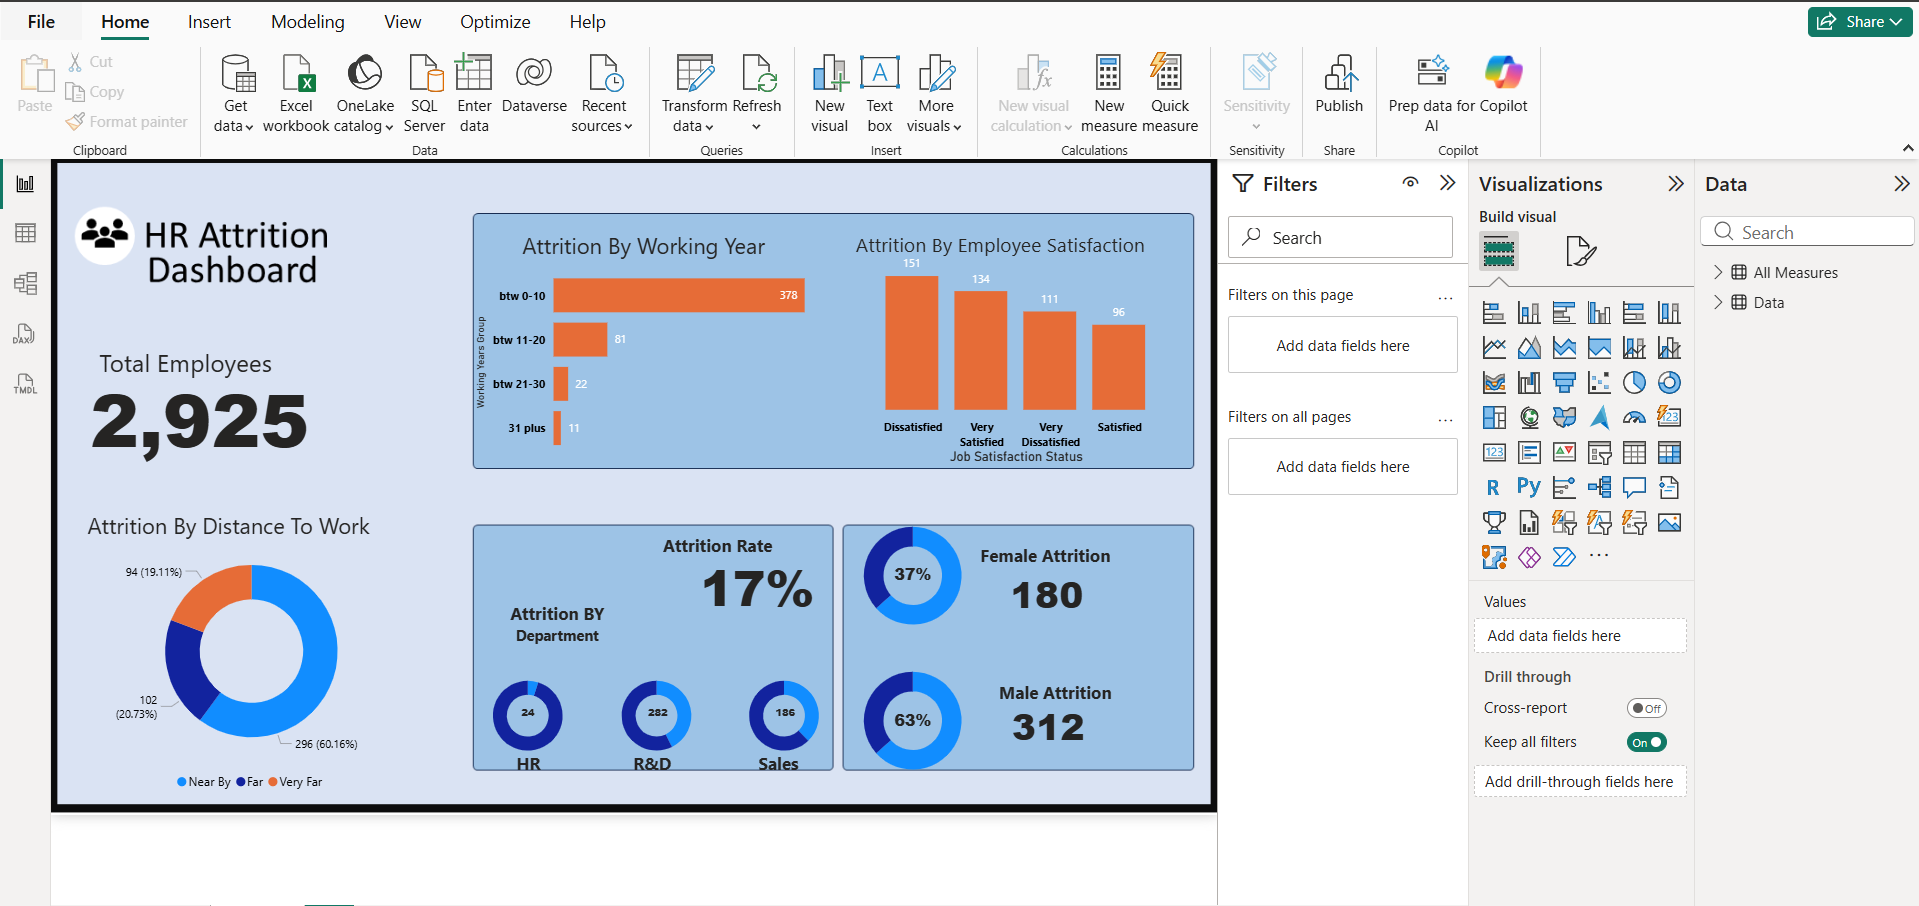

What the dashboard file says about the page in this screenshot:
{"tool":"powerbi","page":{"name":"Page 1","canvas":[1280,720],"ordinal":0},"visuals":[{"type":"card","fields":{"Values":["All Measures.Total Employees"]},"box":[0,219.6,326.6,120.8],"z":0},{"type":"donutChart","fields":{"Category":["Data.Distance Status"],"Y":["All Measures.Total Attrition"]},"box":[24.7,407.5,391.1,295],"z":1000},{"type":"barChart","fields":{"Y":["All Measures.Total Attrition"],"Category":["Data.Working Years Group"]},"box":[461.1,98.8,397.9,241.5],"z":2000},{"type":"columnChart","fields":{"Category":["Data.Job Satisfaction Status"],"Y":["All Measures.Total Attrition"]},"box":[870,87.8,369.1,252.5],"z":3000},{"type":"card","fields":{"Values":["All Measures.% Attrition"]},"box":[691.6,407.5,167.4,120.8],"z":4000},{"type":"donutChart","fields":{"Y":["All Measures.HR Department","All Measures.Remain Hr"]},"box":[461.1,558.5,125,105.7],"z":5000},{"type":"donutChart","fields":{"Y":["All Measures.Remain R&D","All Measures.R&D Department"]},"box":[601.7,558.5,125,105.7],"z":6000},{"type":"donutChart","fields":{"Y":["All Measures.Sales Department","All Measures.Remain Sales"]},"box":[742.4,558.5,125,105.7],"z":7000},{"type":"donutChart","fields":{"Category":["Data.Gender"],"Y":["All Measures.Total Attrition"]},"box":[827.4,385.6,237.4,144.1],"z":8000},{"type":"donutChart","fields":{"Category":["Data.Gender"],"Y":["All Measures.Total Attrition"]},"box":[827.4,544.8,237.4,144.1],"z":9000},{"type":"textbox","box":[48,200.3,230.5,48],"z":10000},{"type":"textbox","box":[20.6,381.5,348.5,49.4],"z":11000},{"type":"textbox","box":[492.6,74.1,315.6,48],"z":12000},{"type":"textbox","box":[845.3,74.1,393.8,48],"z":13000},{"type":"card","fields":{"Values":["All Measures.HR Department"]},"box":[498.1,590.1,50.8,41.2],"z":14000},{"type":"card","fields":{"Values":["All Measures.R&D Department"]},"box":[640.8,590.1,50.8,41.2],"z":15000},{"type":"card","fields":{"Values":["All Measures.Sales Department"]},"box":[780.8,594.2,50.8,31.6],"z":16000},{"type":"textbox","box":[666.9,406.2,138.6,50.8],"z":18000},{"type":"textbox","box":[477.5,646.3,93.3,35.7],"z":18001},{"type":"textbox","box":[613.4,646.3,93.3,35.7],"z":18002},{"type":"textbox","box":[752,646.3,93.3,35.7],"z":18003},{"type":"textbox","box":[461.1,481.6,189.4,63.1],"z":18004},{"type":"card","fields":{"Values":["All Measures.% Female Attrition"]},"box":[920.8,441.9,50.8,31.6],"z":18005},{"type":"card","fields":{"Values":["All Measures.% Male Attrition"]},"box":[920.8,602.4,50.8,31.6],"z":18006},{"type":"textbox","box":[1005.8,417.2,171.5,50.8],"z":18007},{"type":"textbox","box":[1011.3,568.1,182.5,57.6],"z":18008},{"type":"card","fields":{"Values":["All Measures.Total Attrition"]},"box":[1010,417.2,167.4,120.8],"z":18009},{"type":"card","fields":{"Values":["All Measures.Total Attrition"]},"box":[1011.3,561.2,167.4,120.8],"z":18010}]}

Visuals, with their boxes on the page's 1280x720 design canvas (x1, y1, x2, y2). These are canvas units, not pixel positions in the 1919x906 screenshot, which may show the page scaled, cropped or inside an application window:
card - All Measures.Total Employees: 0,220,327,340
donutChart - Data.Distance Status x All Measures.Total Attrition: 25,408,416,702
barChart - All Measures.Total Attrition x Data.Working Years Group: 461,99,859,340
columnChart - Data.Job Satisfaction Status x All Measures.Total Attrition: 870,88,1239,340
card - All Measures.% Attrition: 692,408,859,528
donutChart - All Measures.HR Department x All Measures.Remain Hr: 461,558,586,664
donutChart - All Measures.Remain R&D x All Measures.R&D Department: 602,558,727,664
donutChart - All Measures.Sales Department x All Measures.Remain Sales: 742,558,867,664
donutChart - Data.Gender x All Measures.Total Attrition: 827,386,1065,530
donutChart - Data.Gender x All Measures.Total Attrition: 827,545,1065,689
textbox: 48,200,278,248
textbox: 21,382,369,431
textbox: 493,74,808,122
textbox: 845,74,1239,122
card - All Measures.HR Department: 498,590,549,631
card - All Measures.R&D Department: 641,590,692,631
card - All Measures.Sales Department: 781,594,832,626
textbox: 667,406,806,457
textbox: 478,646,571,682
textbox: 613,646,707,682
textbox: 752,646,845,682
textbox: 461,482,650,545
card - All Measures.% Female Attrition: 921,442,972,474
card - All Measures.% Male Attrition: 921,602,972,634
textbox: 1006,417,1177,468
textbox: 1011,568,1194,626
card - All Measures.Total Attrition: 1010,417,1177,538
card - All Measures.Total Attrition: 1011,561,1179,682
